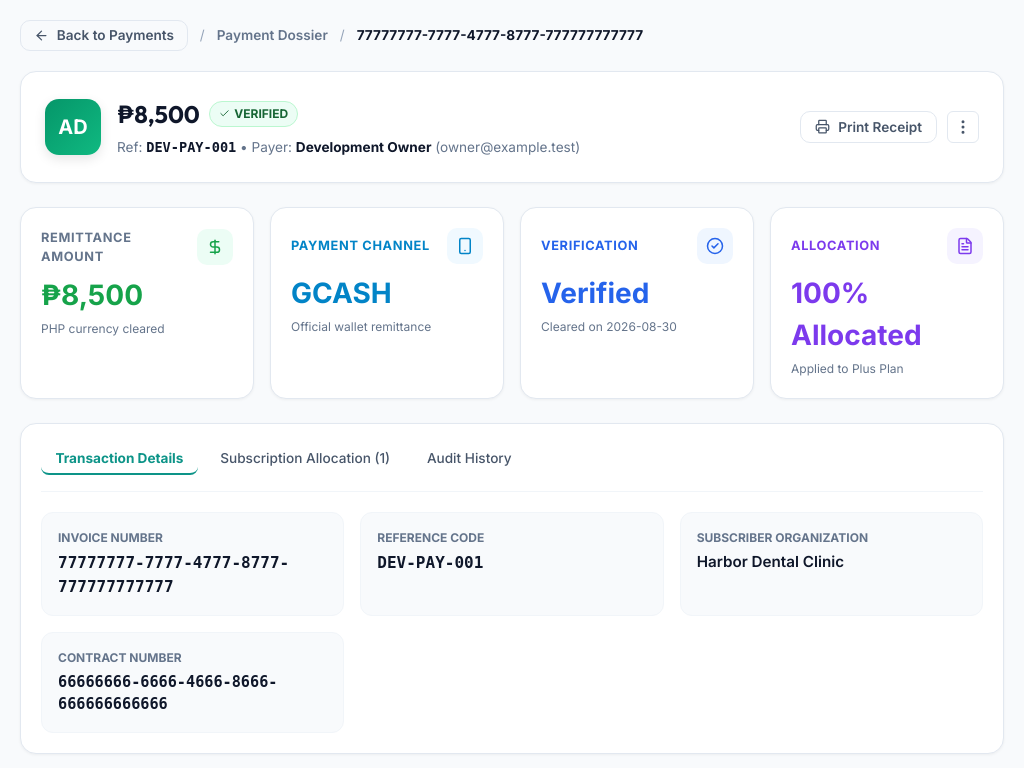
Phase 2E.2 final exact-detail consistency › renders the approved payment against its one real Plus subscription association after direct load
Expected: the heading "₱8,500" is shown, [117,96,200,132]
Expected: the text "Applied to Plus Plan" is shown, [791,361,904,376]
Step 1. Click the button "Subscription Allocation (1)" → [305, 459], box [206,444,404,475]
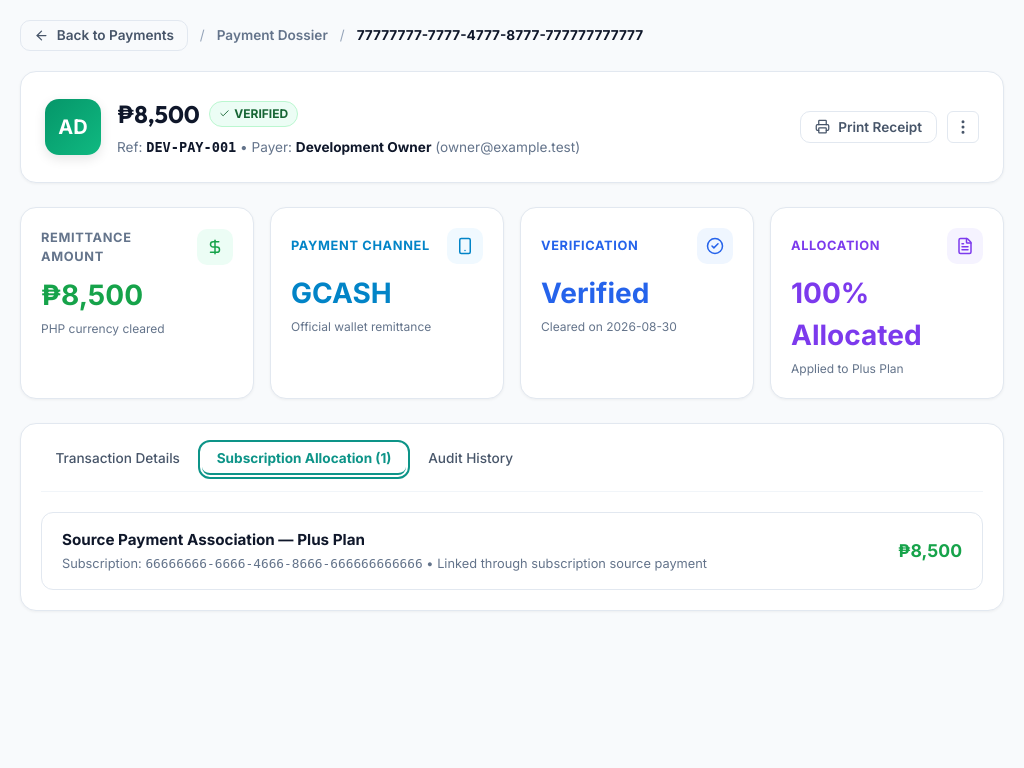
Expected: the text "66666666-6666-4666-8666-666666666666" is shown, [145,556,423,571]
Now the text "Source Payment Association — Plus Plan" is shown, box [62,530,365,548]
